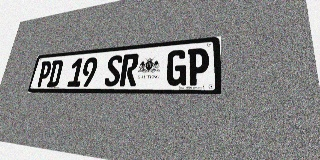1: (67, 58, 85, 87)
9: (80, 57, 99, 87)
D: (46, 60, 64, 87)
G: (166, 49, 187, 86)
P: (187, 47, 209, 86), (36, 61, 53, 87)
R: (119, 53, 139, 86)
S: (104, 55, 123, 86)
